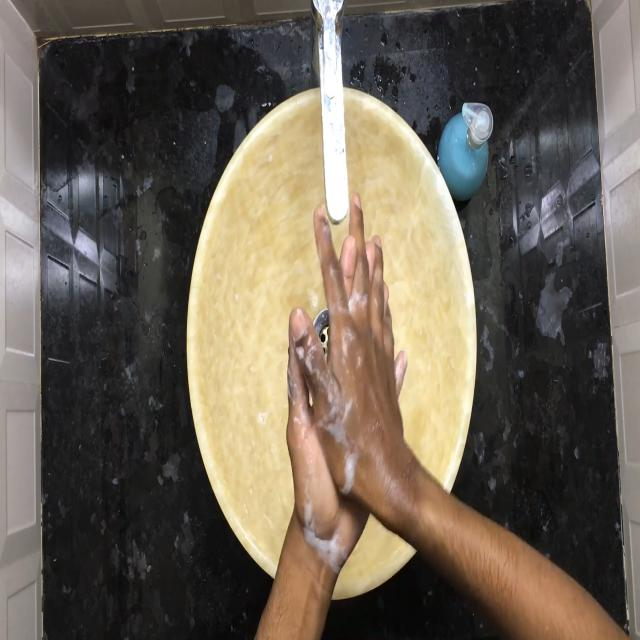step_3: (276, 192, 405, 532)
